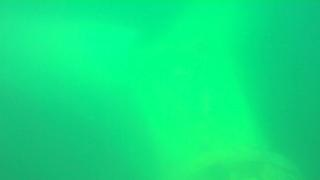pipe: (136, 27, 302, 180), (42, 17, 143, 89)
